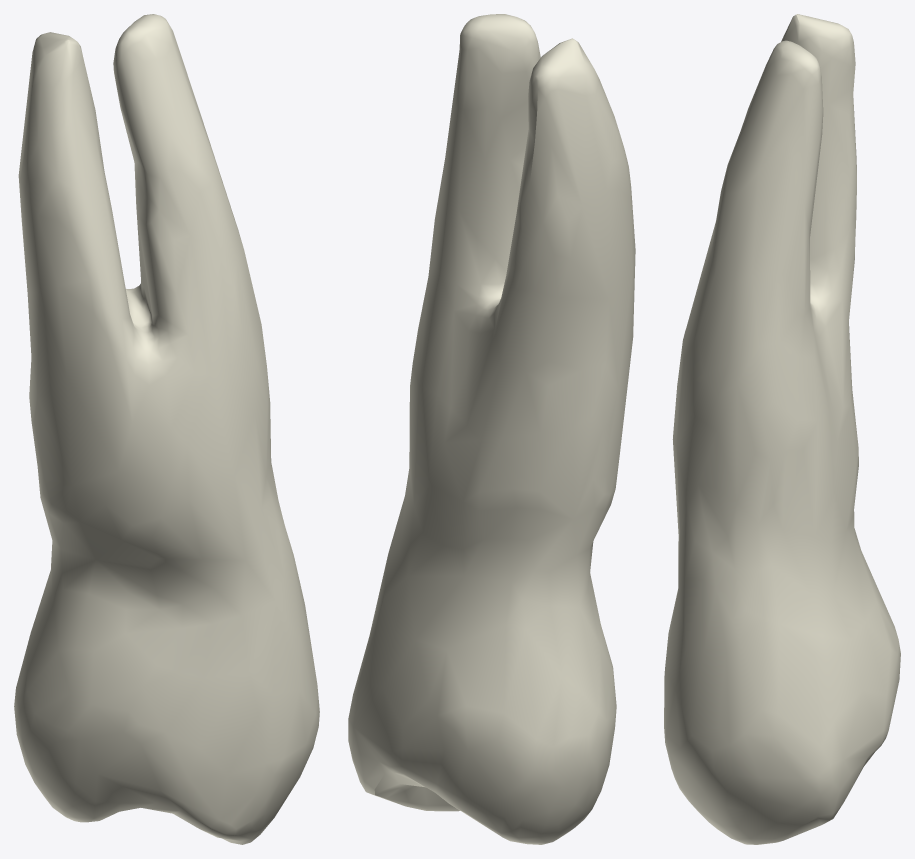
Rendered from Left first upper premolar tooth.fbx.
The picture shows the model from 3 angles, left to right: view 1: azimuth 30°, elevation 25°; view 2: azimuth 150°, elevation 25°; view 3: azimuth 270°, elevation 25°; orthographic projection. The views are drawn at different scales.
Visible parts, largest first — view 1: Left first upper premolar tooth; view 2: Left first upper premolar tooth; view 3: Left first upper premolar tooth.
Boxes of the visible parts, x1=… form: Left first upper premolar tooth: x1=14, y1=14, x2=319, y2=844; Left first upper premolar tooth: x1=348, y1=14, x2=635, y2=844; Left first upper premolar tooth: x1=664, y1=14, x2=900, y2=844.
Bounding box in the file's own units: 1.26 × 3.79 × 1.07.
